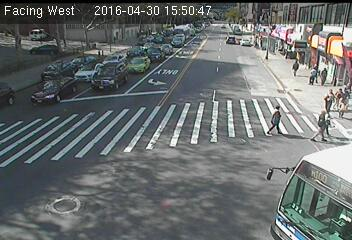neg: (29, 88, 64, 136), (53, 174, 88, 220), (163, 148, 197, 193), (259, 164, 293, 209), (222, 33, 252, 73), (118, 32, 142, 63), (107, 80, 130, 110), (312, 28, 335, 58), (223, 102, 246, 132), (124, 149, 144, 175), (201, 54, 220, 78), (262, 30, 280, 54), (172, 27, 188, 48), (187, 103, 201, 123), (31, 34, 43, 50)
pos: (313, 107, 336, 138), (267, 105, 288, 132), (319, 84, 335, 105), (307, 63, 322, 83), (288, 56, 303, 76), (338, 83, 348, 97)
